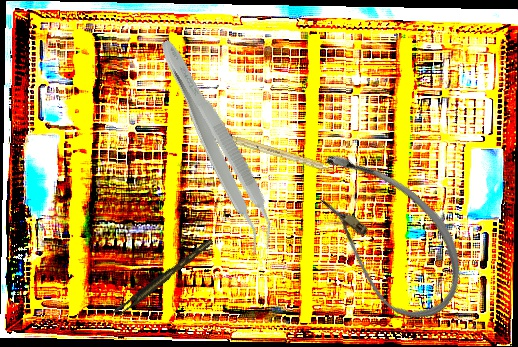Cannula: (279, 133, 489, 336)
Scalpel Handle: (219, 131, 338, 175)
Tissue Forceps: (144, 34, 287, 257), (110, 238, 218, 318)
